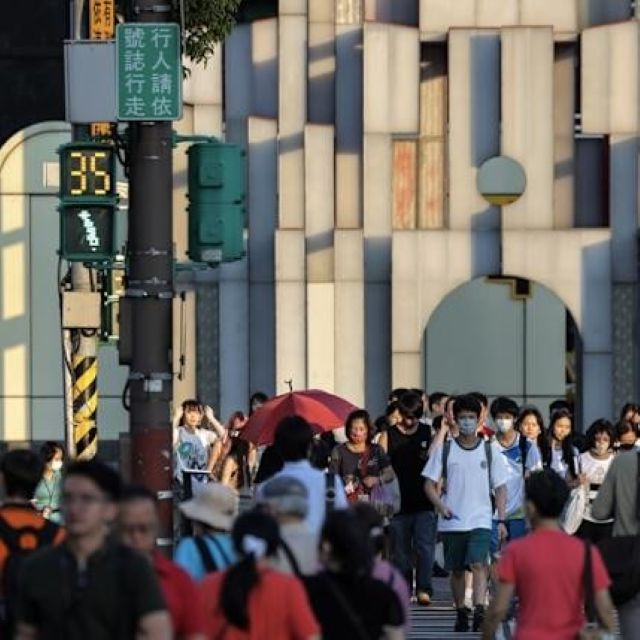green_light: (55, 142, 117, 260)
